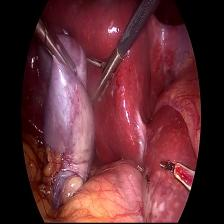Grasper: (31, 17, 78, 88), (85, 44, 124, 102)
Hook: (159, 159, 196, 196)
